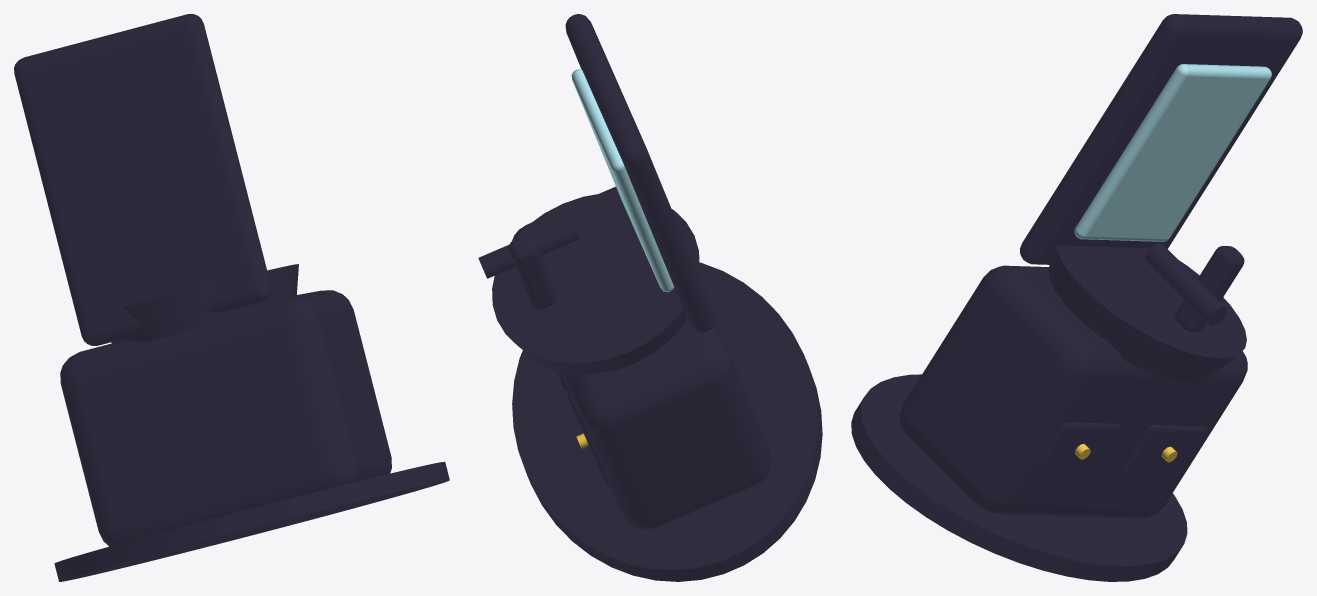
File: sink.glb
3 renders of one model, left to right at view 1: azimuth 30°, elevation 25°; view 2: azimuth 150°, elevation 25°; view 3: azimuth 270°, elevation 25°, orthographic. The views are drawn at different scales.
Size of the model in its own units: 1.22 by 2.02 by 1.47.
